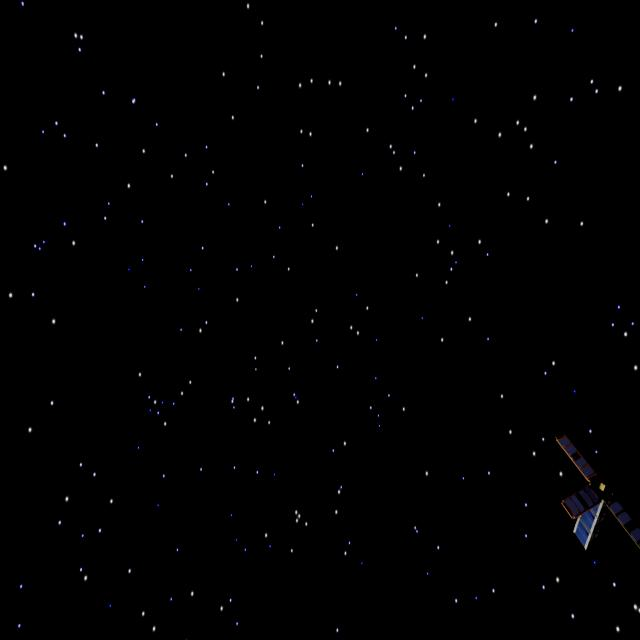satellite: (552, 427, 640, 555)
